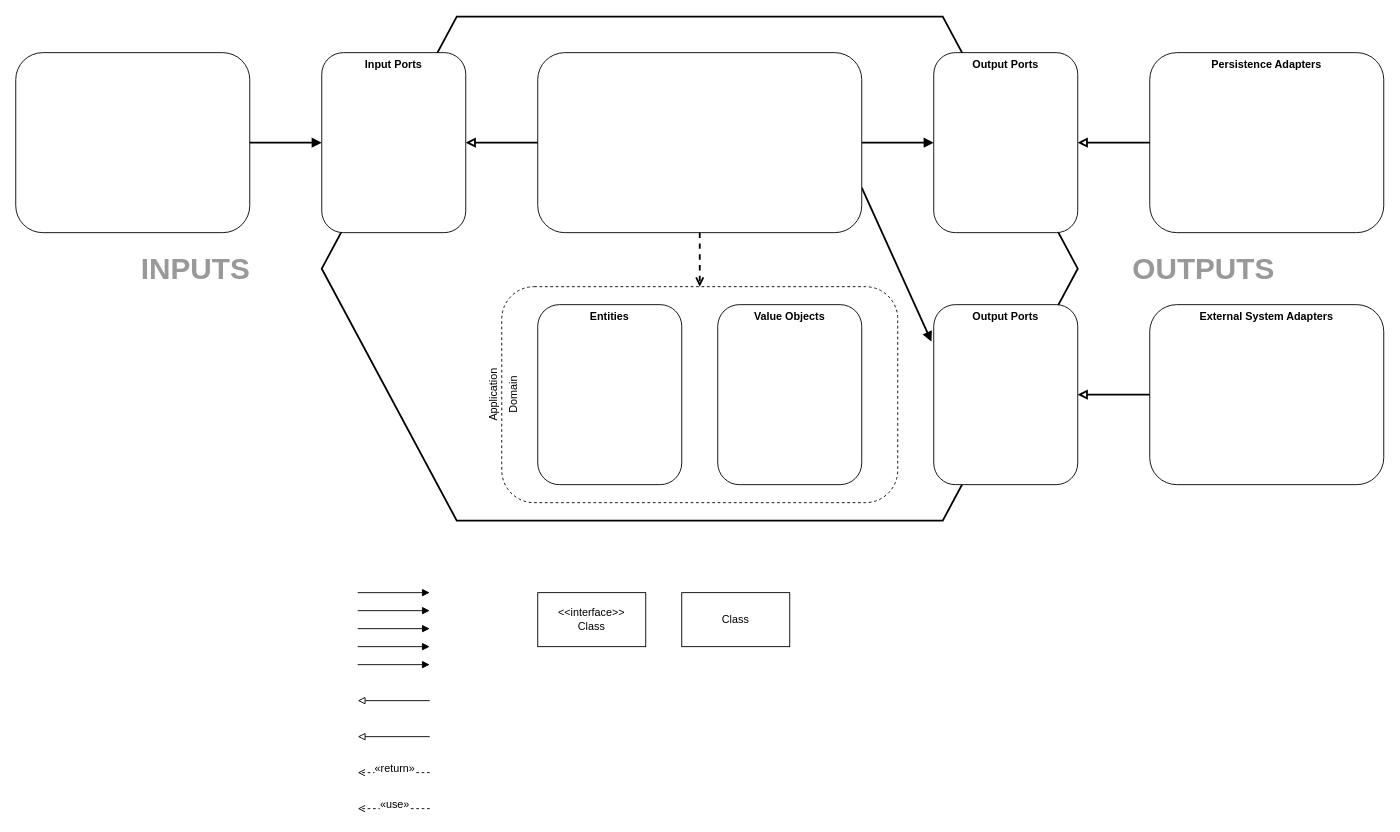
Image size: 1400x832. Some labels were removed from this diagram. Here are the shapes that lost their labels. From the top down, the centre of each, then its label:
the point at 132,142: Web Adapters
the point at 699,142: Services
